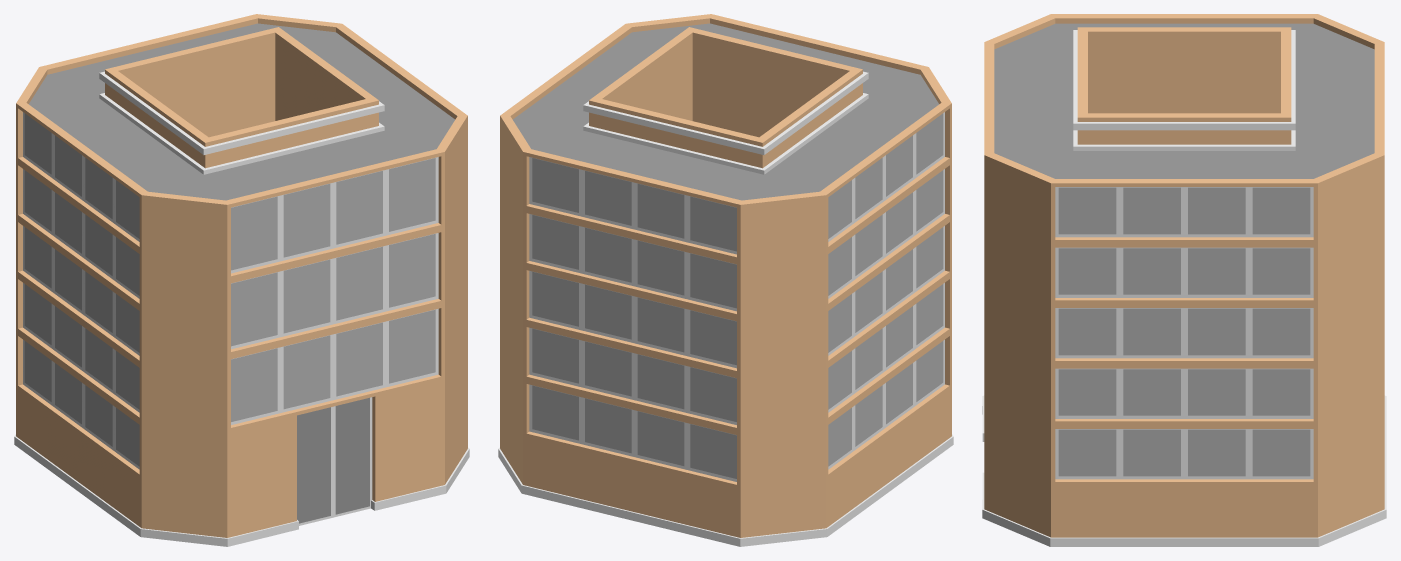
Rendered from SM_House_17_01.FBX.
The picture shows the model from 3 angles, left to right: view 1: azimuth 30°, elevation 25°; view 2: azimuth 150°, elevation 25°; view 3: azimuth 270°, elevation 25°; orthographic projection. The views are drawn at different scales.
Visible parts, largest first — view 1: SM_House_17_01; view 2: SM_House_17_01; view 3: SM_House_17_01.
Part boxes in pixels (x1,y1,x2,y2): SM_House_17_01: (14, 14, 469, 546); SM_House_17_01: (498, 14, 953, 546); SM_House_17_01: (982, 14, 1386, 546).
Bounding box in the file's own units: 6.06 × 6.43 × 6.06.
1 material, 1 textured.
